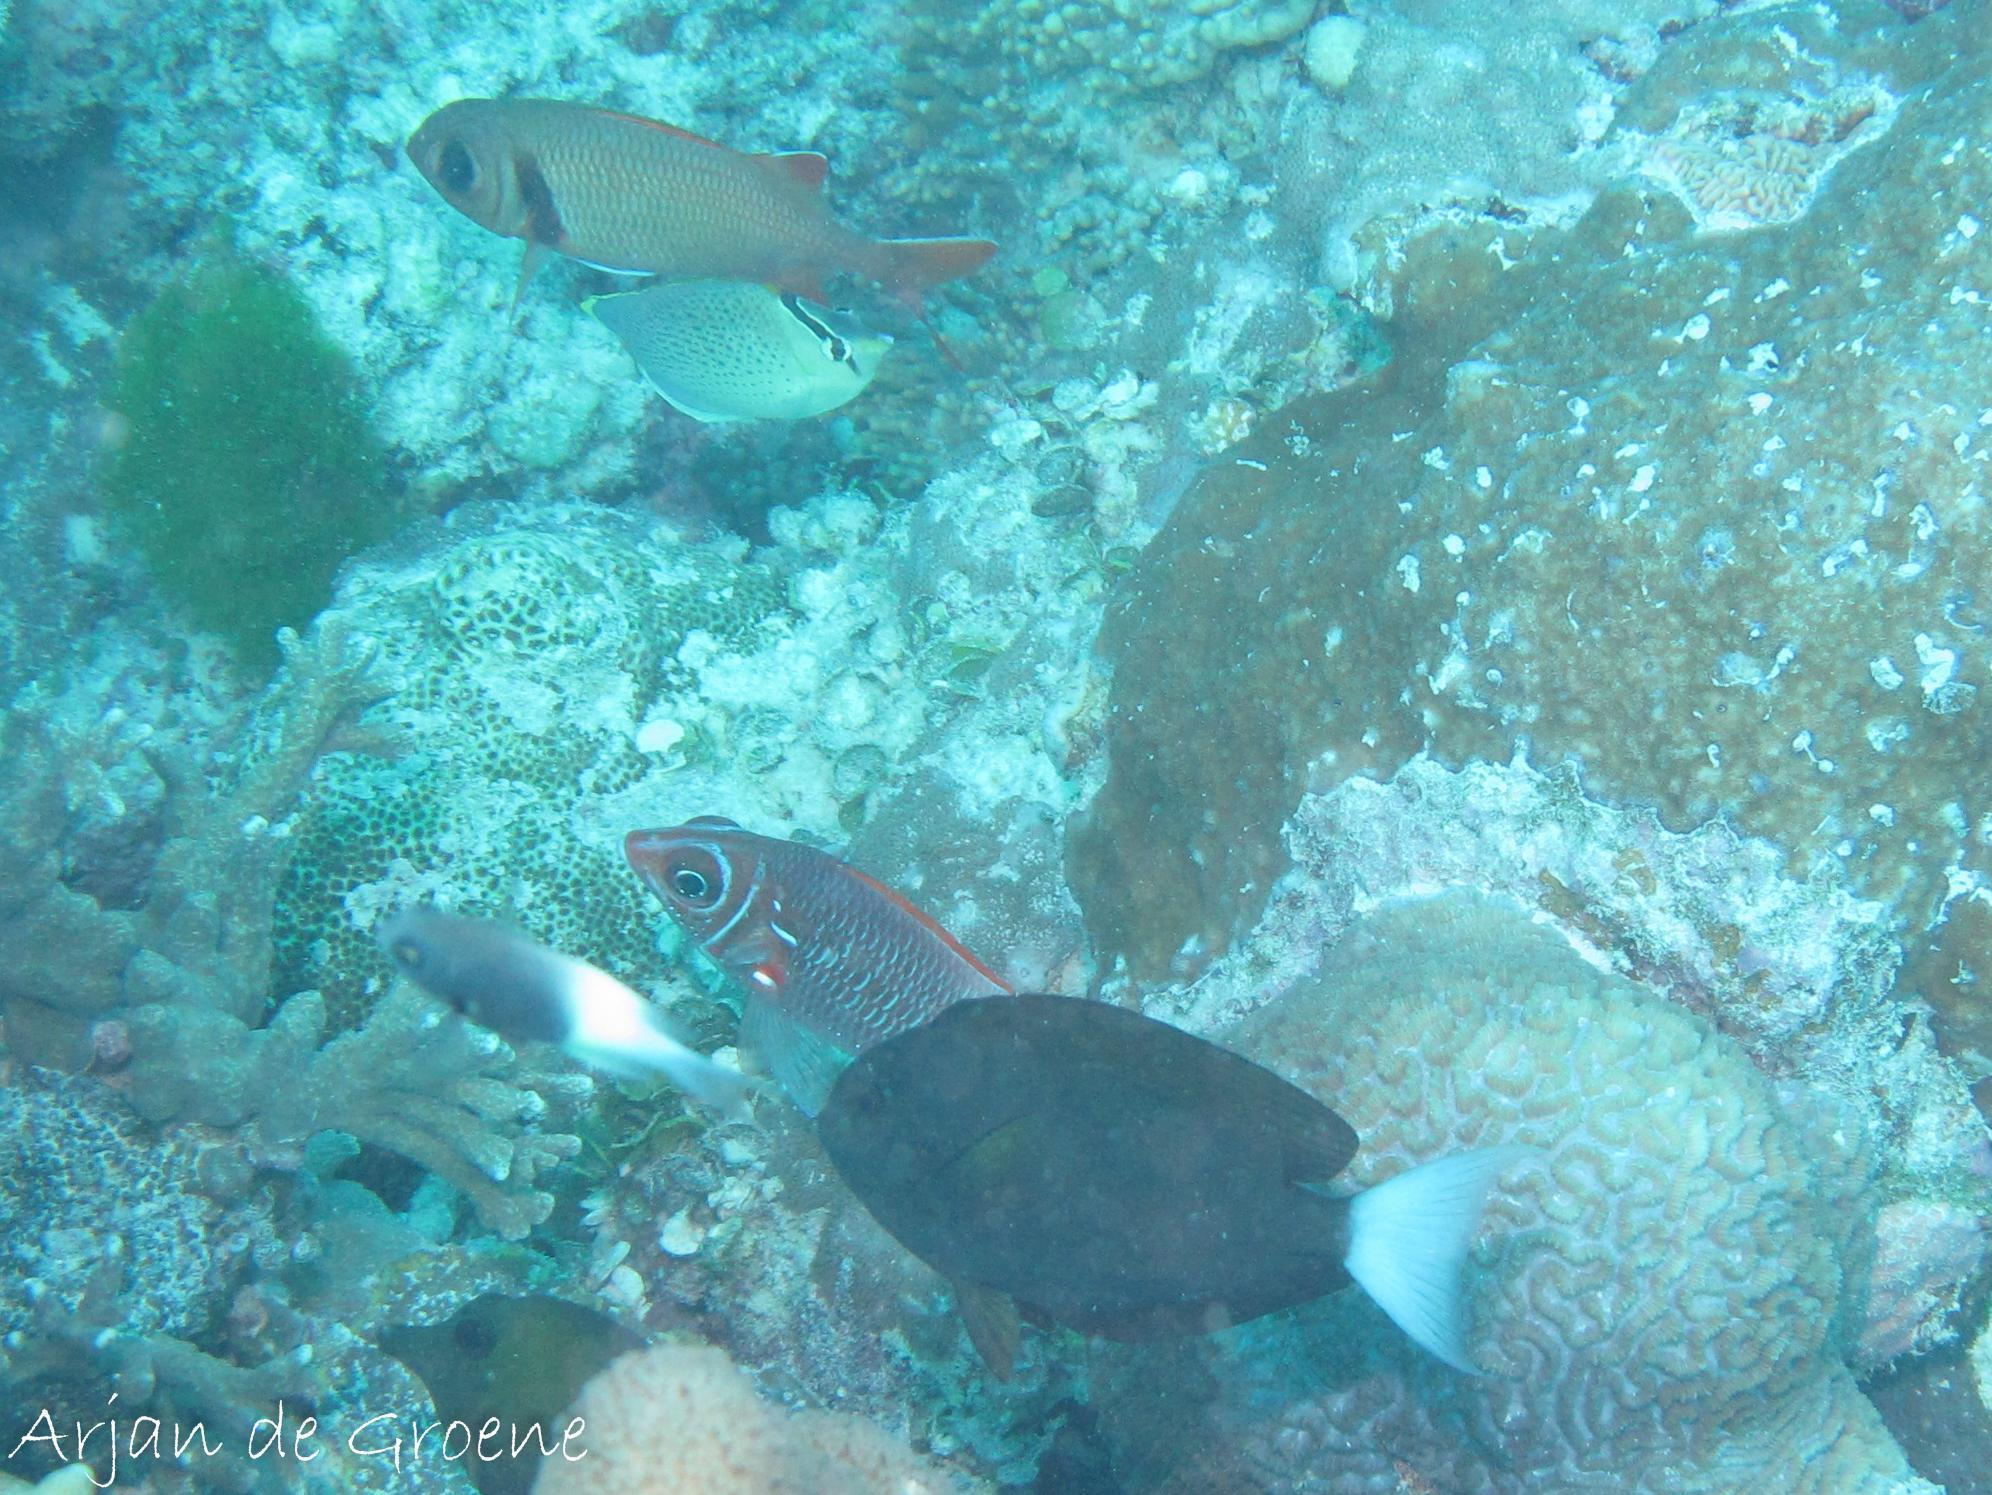Fish: (730, 947, 1578, 1412)
